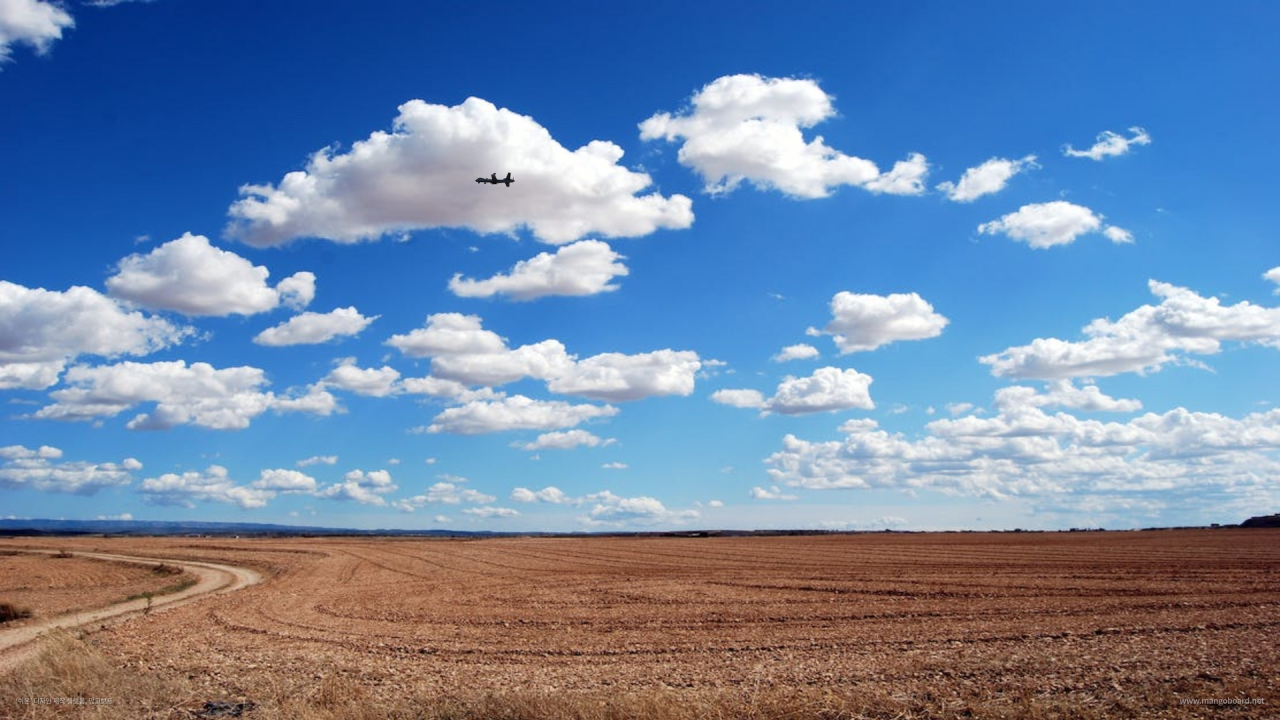military drone: (473, 171, 516, 186)
